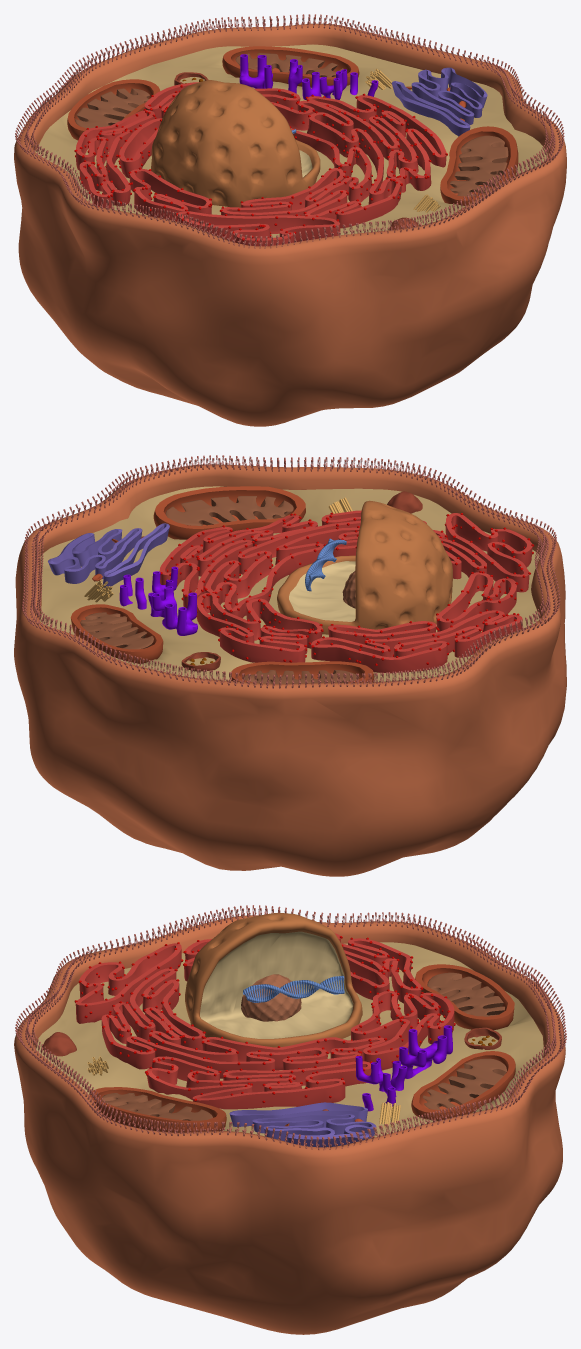
The model's file is human-cell.glb.
3 renders of one model, top to bottom at view 1: azimuth 30°, elevation 25°; view 2: azimuth 150°, elevation 25°; view 3: azimuth 270°, elevation 25°, orthographic. The views are drawn at different scales.
Visible parts, largest first — view 1: Object_7, Object_33, Object_9, Object_6, Object_16, Object_13, Object_14, Object_20, Object_35, Object_28, Object_24; view 2: Object_7, Object_33, Object_6, Object_16, Object_9, Object_13, Object_14, Object_20, Object_35, Object_11, Object_28, Object_26 (+2 smaller); view 3: Object_7, Object_33, Object_6, Object_16, Object_11, Object_13, Object_9, Object_14, Object_20, Object_28, Object_35, Object_10 (+3 smaller).
Boxes of the visible parts, bbox=[...] form: Object_7: bbox=[14, 23, 566, 426]; Object_33: bbox=[76, 82, 446, 246]; Object_9: bbox=[151, 80, 320, 207]; Object_6: bbox=[35, 44, 547, 237]; Object_16: bbox=[15, 14, 564, 248]; Object_13: bbox=[67, 46, 518, 205]; Object_14: bbox=[75, 53, 508, 196]; Object_20: bbox=[391, 67, 487, 136]; Object_35: bbox=[74, 85, 447, 244]; Object_28: bbox=[239, 54, 378, 99]; Object_24: bbox=[365, 68, 440, 212]; Object_7: bbox=[14, 464, 566, 876]; Object_33: bbox=[159, 510, 532, 673]; Object_6: bbox=[40, 486, 539, 681]; Object_16: bbox=[22, 455, 560, 688]; Object_9: bbox=[277, 500, 452, 634]; Object_13: bbox=[70, 486, 374, 682]; Object_14: bbox=[80, 496, 359, 683]; Object_20: bbox=[48, 523, 169, 587]; Object_35: bbox=[160, 512, 534, 665]; Object_11: bbox=[289, 561, 355, 621]; Object_28: bbox=[119, 566, 197, 635]; Object_26: bbox=[181, 491, 422, 671]; Object_7: bbox=[14, 915, 565, 1334]; Object_33: bbox=[75, 933, 454, 1109]; Object_6: bbox=[36, 942, 543, 1137]; Object_16: bbox=[15, 905, 566, 1149]; Object_11: bbox=[200, 931, 353, 1038]; Object_13: bbox=[89, 964, 515, 1132]; Object_9: bbox=[185, 913, 362, 1047]; Object_14: bbox=[101, 972, 506, 1120]; Object_20: bbox=[229, 1102, 376, 1147]; Object_28: bbox=[355, 1025, 452, 1111]; Object_35: bbox=[74, 936, 455, 1102]; Object_10: bbox=[241, 974, 301, 1021].
Size of the model in its own units: 1.9 by 1.21 by 1.85.
